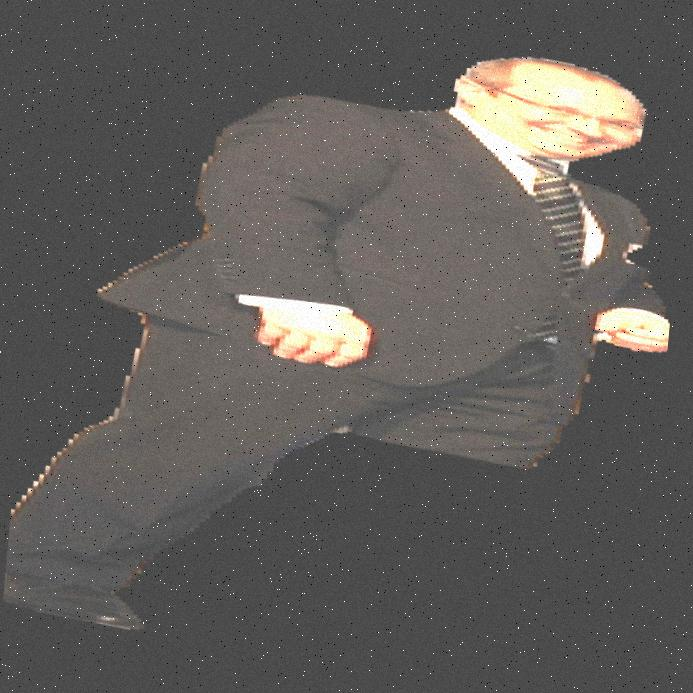Pessoa: (133, 0, 577, 692)
